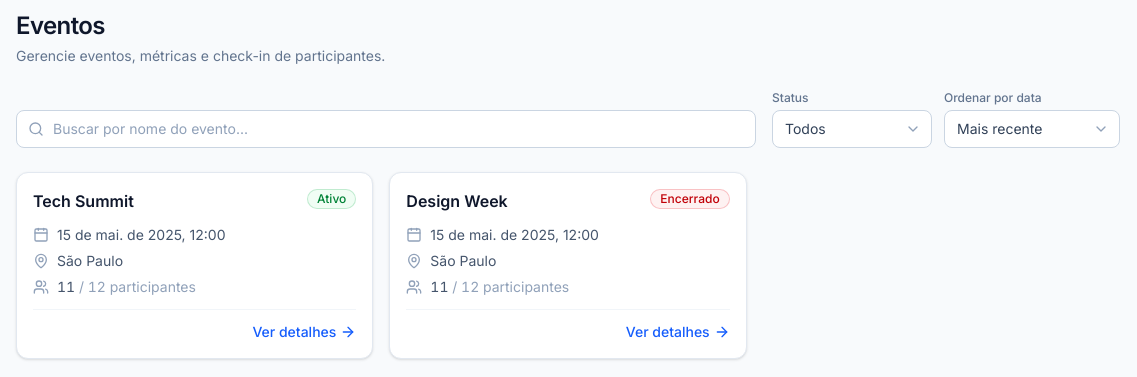
Test case: Listagem de Eventos › Filtra eventos por status
Expected: the heading "Tech Summit" is shown, [33,189,134,213]
Expected: the heading "Design Week" is shown, [406,189,508,213]
Click the button with aria-label "Filtrar por status" at (852, 129), box [772,110,932,148]
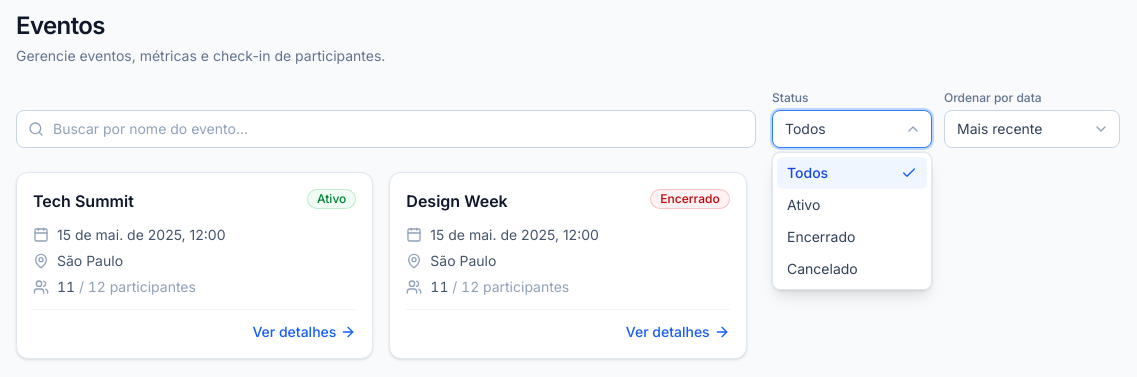
Click the option "Ativo" at (852, 205), box [777,189,927,221]
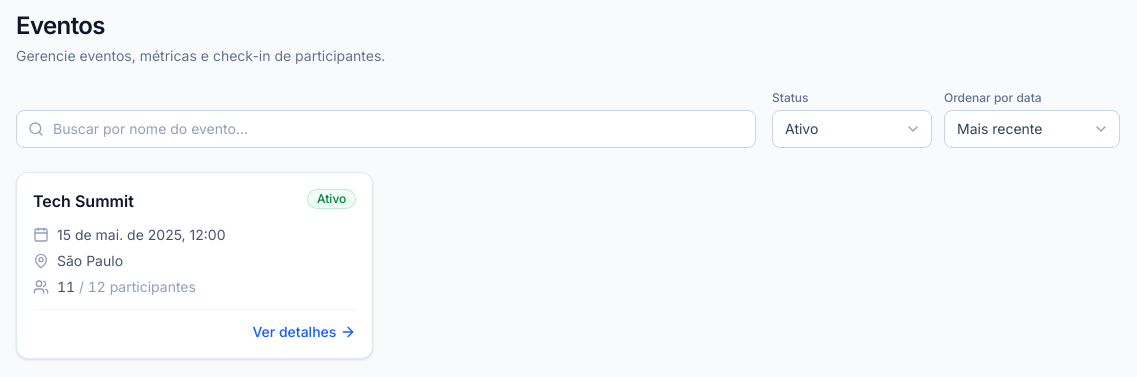
Expected: the heading "Tech Summit" is shown, [33,189,134,213]
Expected: no links "Design Week" are shown
